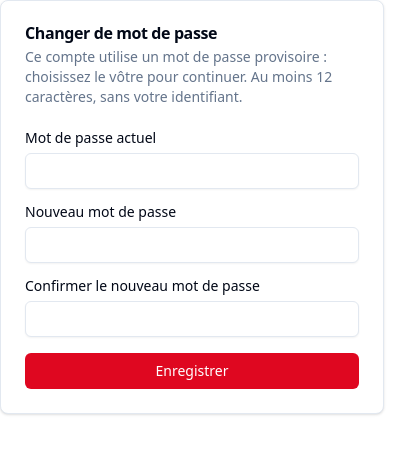
Test: ChangePasswordForm › refuse un mot de passe trop court sans appeler le serveur
The image size is (401, 456).
Type "ancien-provisoire" into the password field labelled "Mot de passe actuel" at [192, 171], box top-left (25, 153), bottom-right (359, 189)
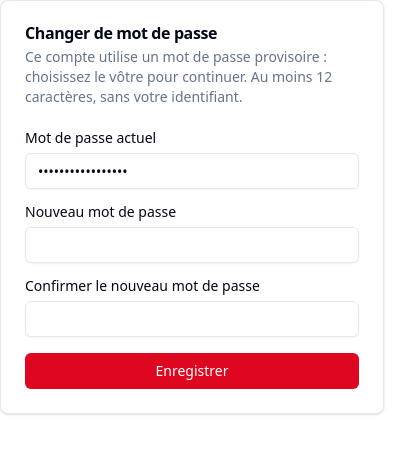
Type "court" into the password field labelled "Nouveau mot de passe" at [192, 245], box top-left (25, 227), bottom-right (359, 263)
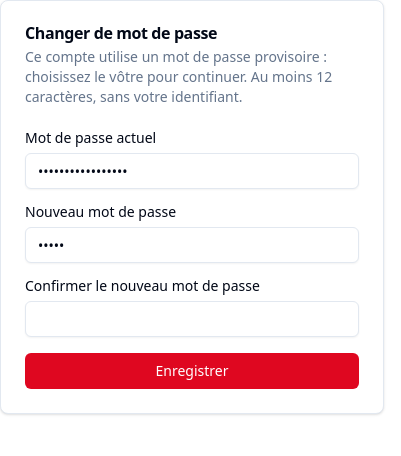
Type "court" into the password field labelled "Confirmer le nouveau mot de passe" at [192, 319], box top-left (25, 301), bottom-right (359, 337)
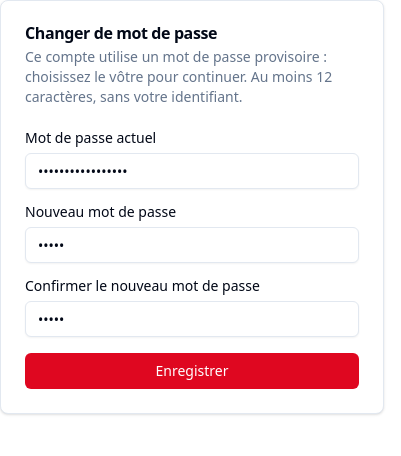
Click the button "Enregistrer" at [192, 371], box top-left (25, 353), bottom-right (359, 389)
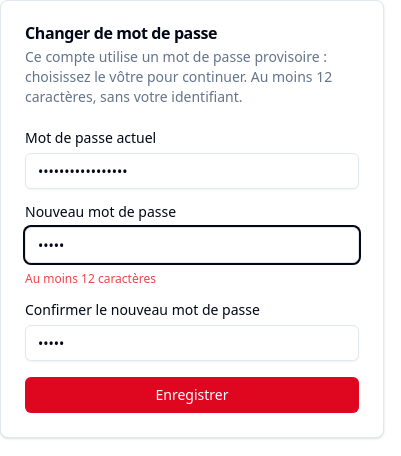
expect the text "Au moins 12 caractères" is shown: met, box top-left (25, 270), bottom-right (156, 287)
